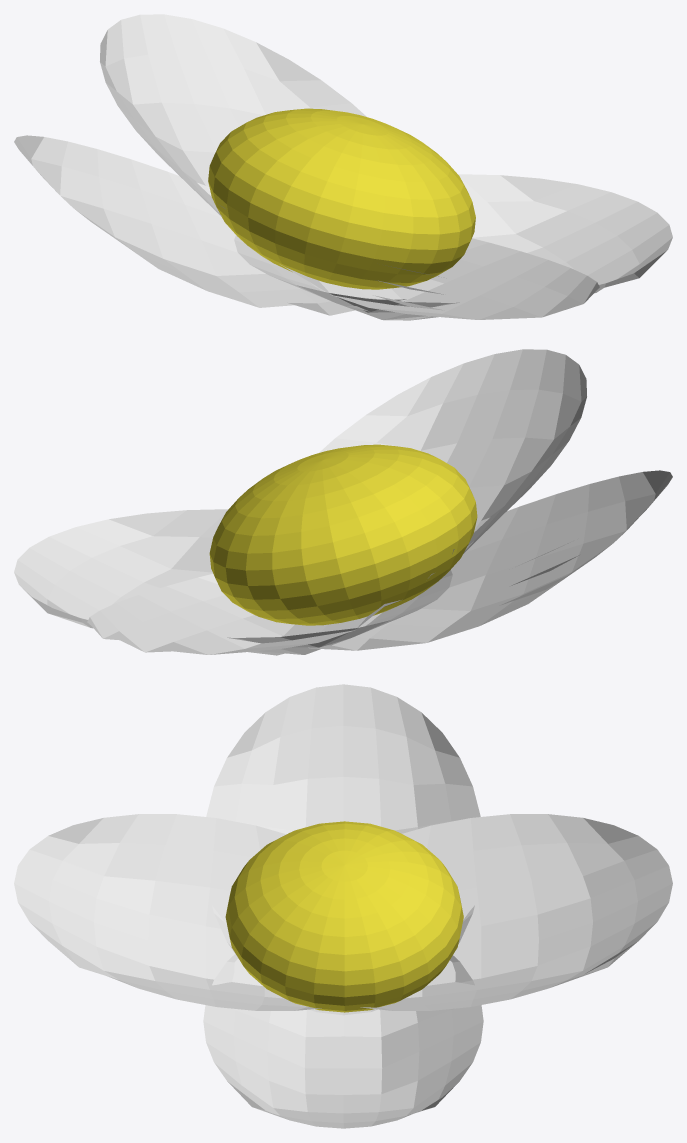
Rendered from FlowerTop.glb.
3 views of the same model, one above another, from view 1: azimuth 30°, elevation 25°; view 2: azimuth 150°, elevation 25°; view 3: azimuth 270°, elevation 25° (orthographic). The views are drawn at different scales.
Visible parts, largest first — view 1: Petals; view 2: Petals; view 3: Petals.
Part boxes in pixels (x1,y1,x2,y2): Petals: (14, 14, 672, 320); Petals: (14, 349, 672, 655); Petals: (14, 684, 672, 1128).
Bounding box in the file's own units: 0.7978 × 0.2921 × 0.836.
